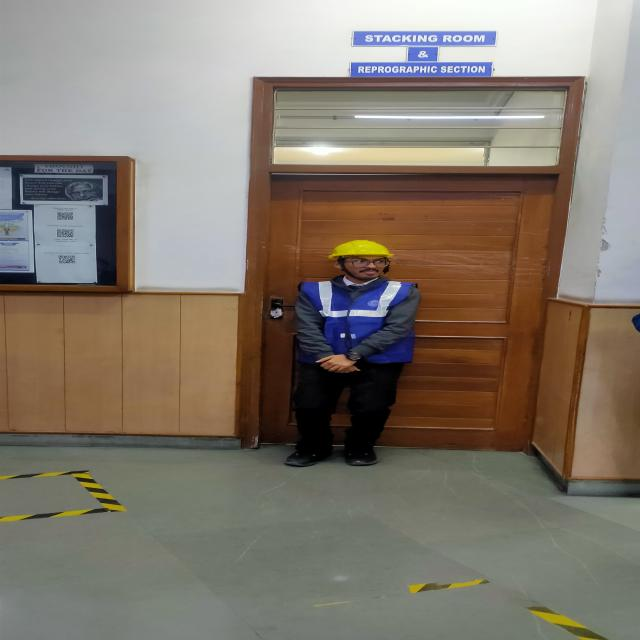safe: (293, 241, 417, 466)
